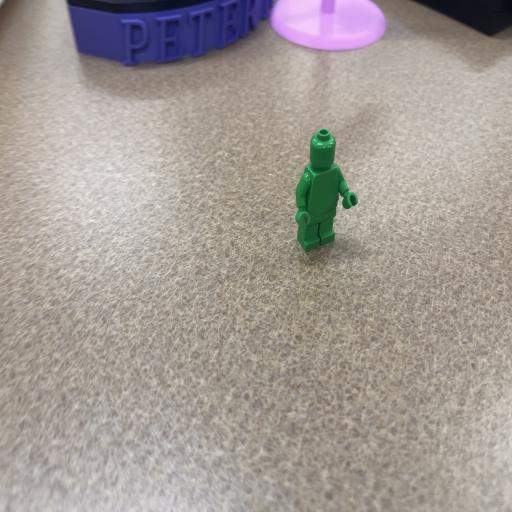Lego-Minifig: (295, 129, 358, 251)
